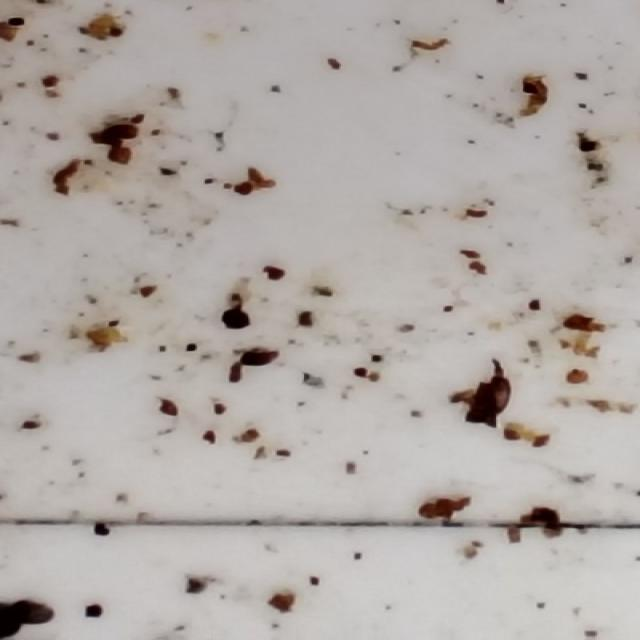varroa: (11, 599, 61, 626), (1, 602, 23, 640)
